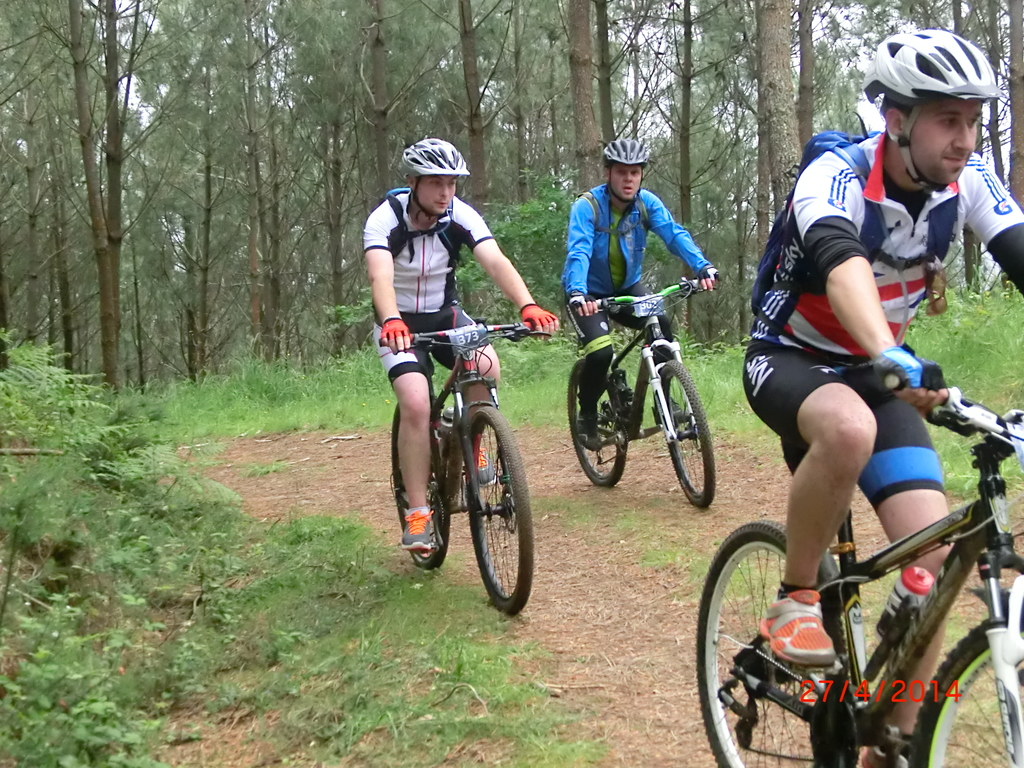Tree: (0, 0, 1023, 396)
